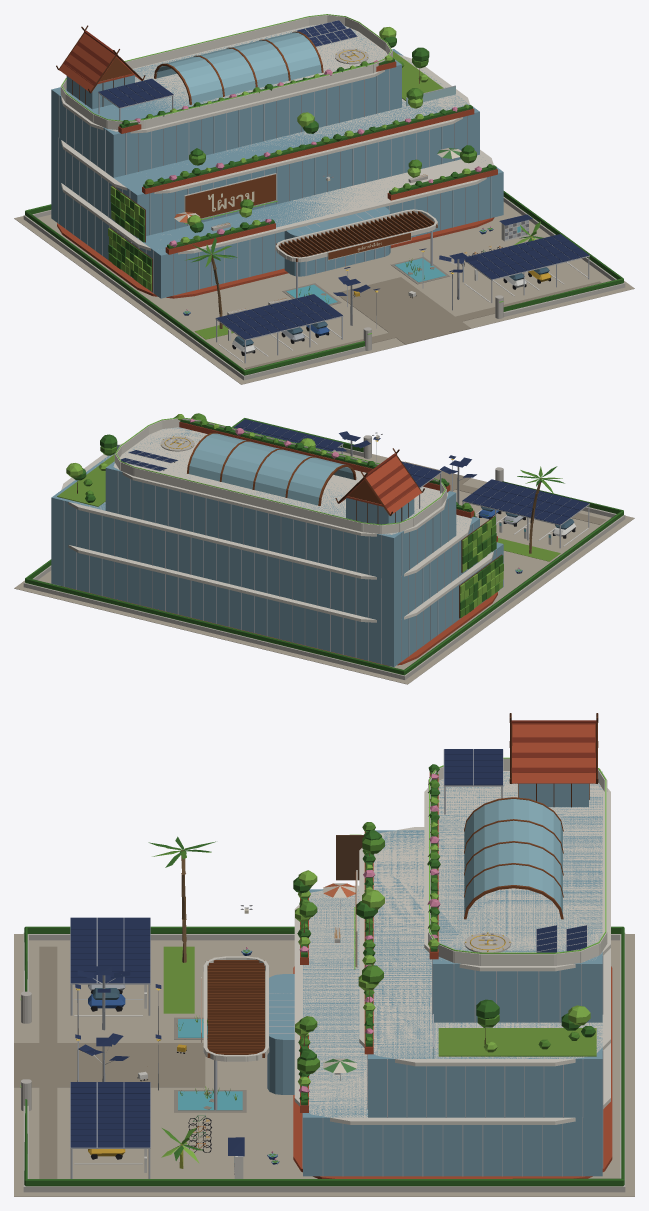
The model's file is store.glb.
3 views of the same model, one above another, from view 1: azimuth 30°, elevation 25°; view 2: azimuth 150°, elevation 25°; view 3: azimuth 270°, elevation 25° (orthographic). The views are drawn at different scales.
Visible parts, largest first — view 1: body, windows; view 2: body, windows; view 3: body, windows.
Part boxes in pixels (x1,y1,x2,y2): body: [14, 15, 634, 384]; windows: [61, 14, 549, 346]; body: [14, 413, 634, 684]; windows: [115, 417, 574, 537]; body: [14, 713, 634, 1196]; windows: [20, 757, 606, 1162].
Size of the model in its own units: 47.9 by 21.97 by 47.9.
